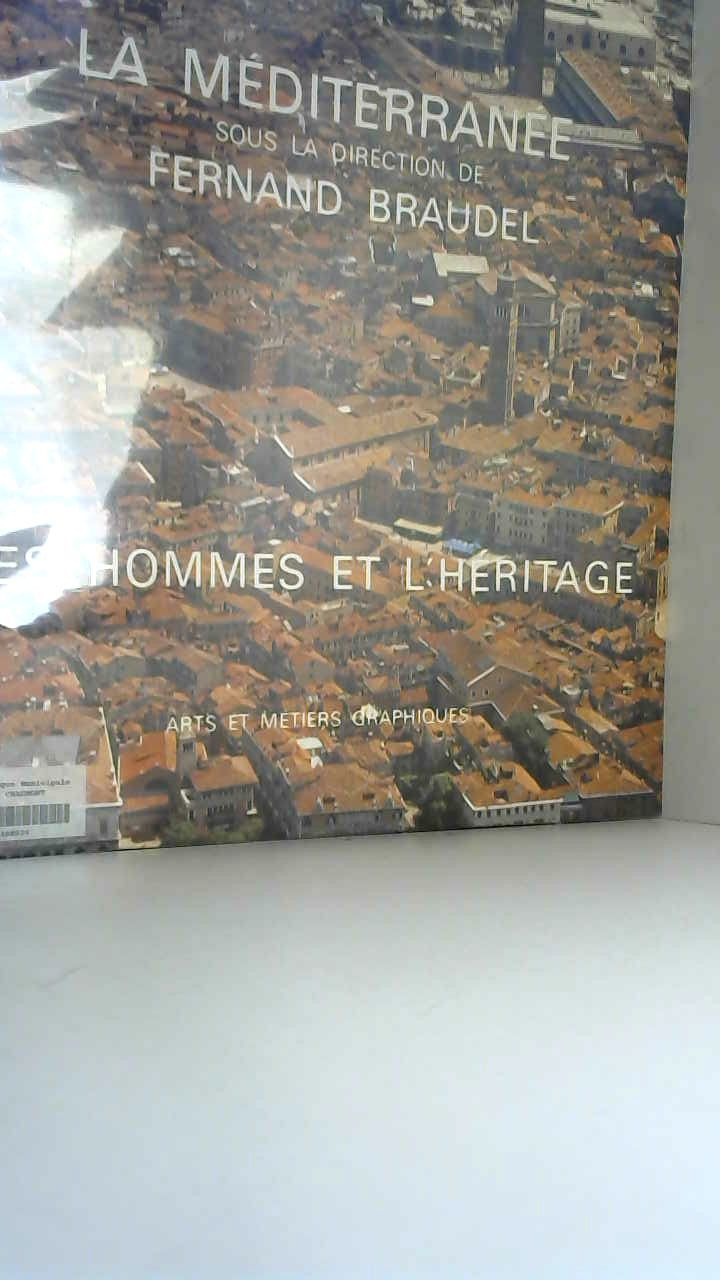book: (0, 0, 700, 876)
